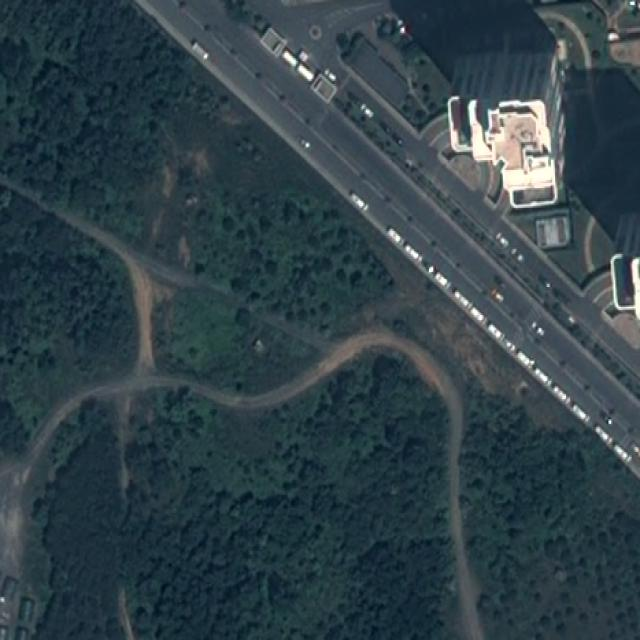Batiment: (451, 98, 558, 207)
